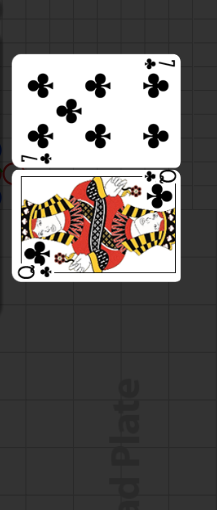7C: (19, 151, 54, 166)
QC: (134, 171, 181, 215), (14, 238, 60, 282)
